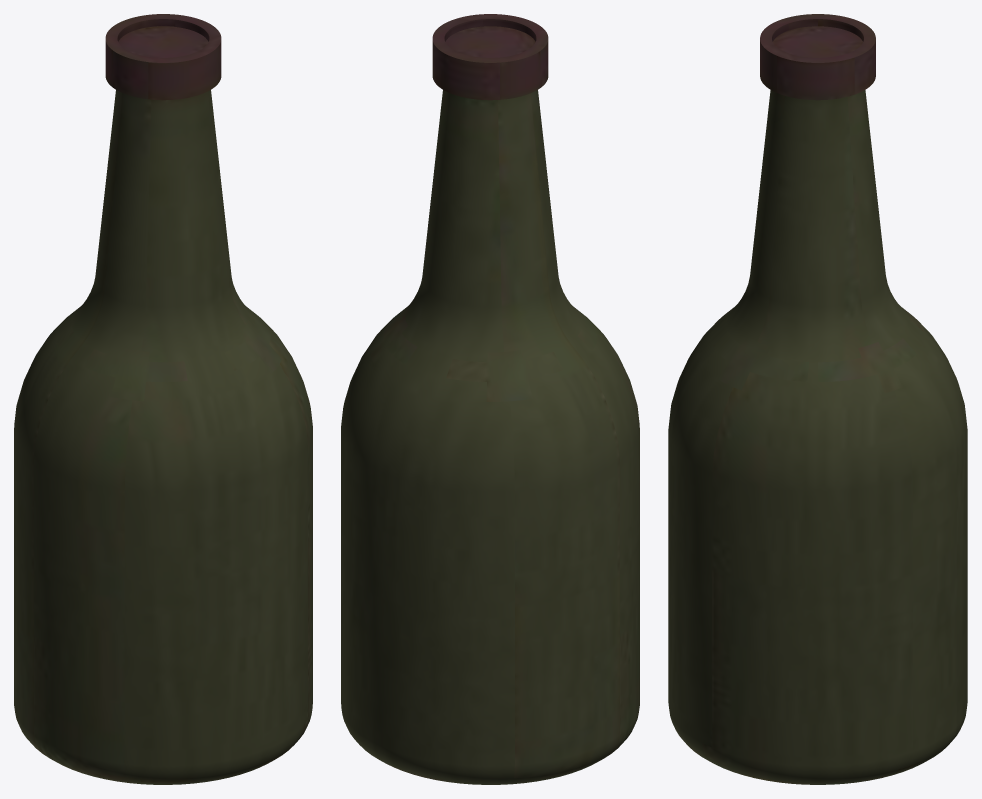
The model's file is SM_bottle.glb.
3 renders of one model, left to right at view 1: azimuth 30°, elevation 25°; view 2: azimuth 150°, elevation 25°; view 3: azimuth 270°, elevation 25°, orthographic.
Visible parts, largest first — view 1: SM_bottle; view 2: SM_bottle; view 3: SM_bottle.
Part boxes in pixels (left/top/right/bottom): SM_bottle: left=14, top=14, right=312, bottom=784; SM_bottle: left=341, top=14, right=639, bottom=784; SM_bottle: left=668, top=14, right=967, bottom=784.
Size of the model in its own units: 0.1721 by 0.4408 by 0.1721.
Materials: 1 (1 with a texture image).
